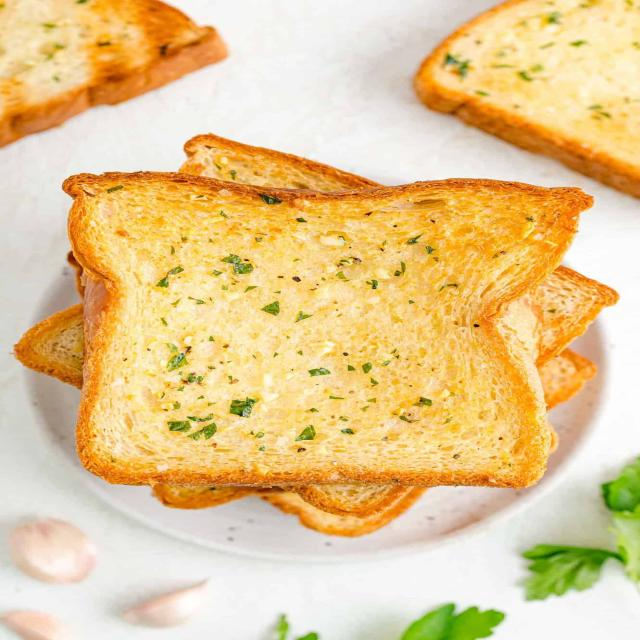Bread: (62, 158, 592, 487)
